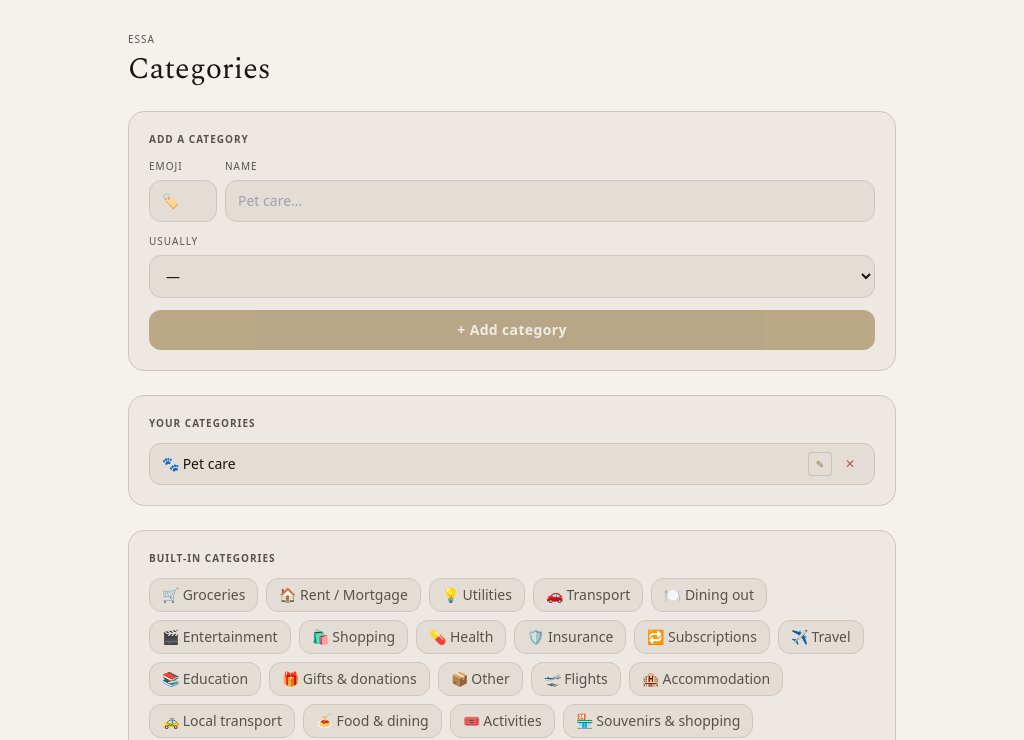
Scenario: adding one named like a custom one is refused too
The image size is (1024, 740).
Step 1. Type "PET CARE" into the field with id "new-cat-name" → (550,201), box [225,180,875,222]
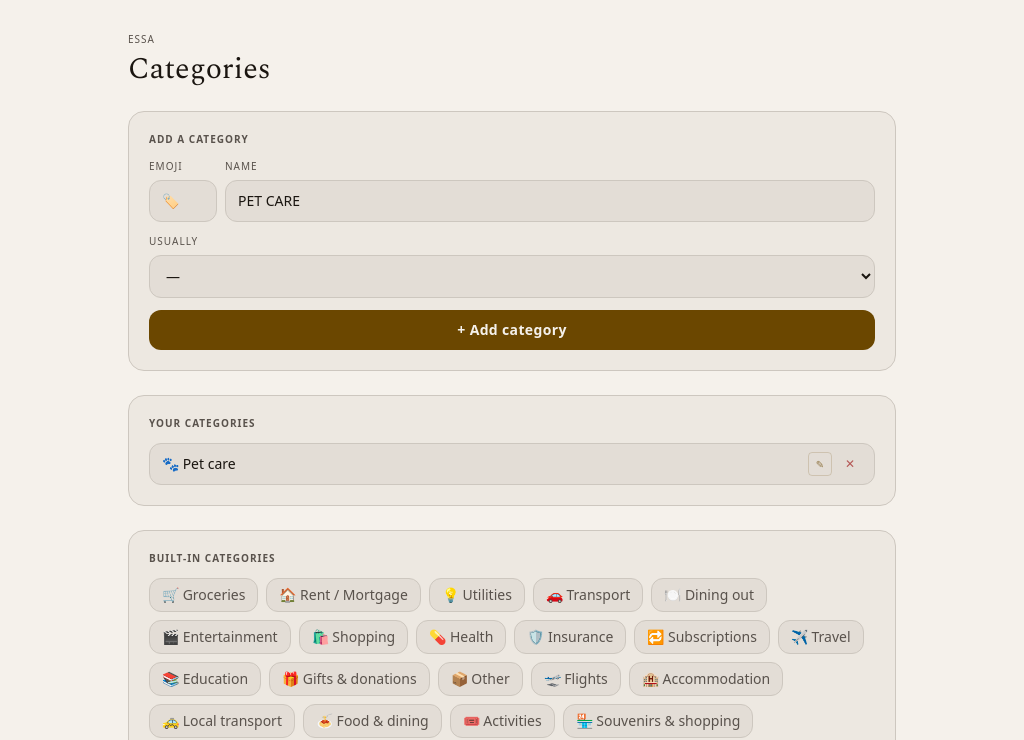
Step 2. Click the button "+ Add category" → (512,330), box [149,310,875,350]
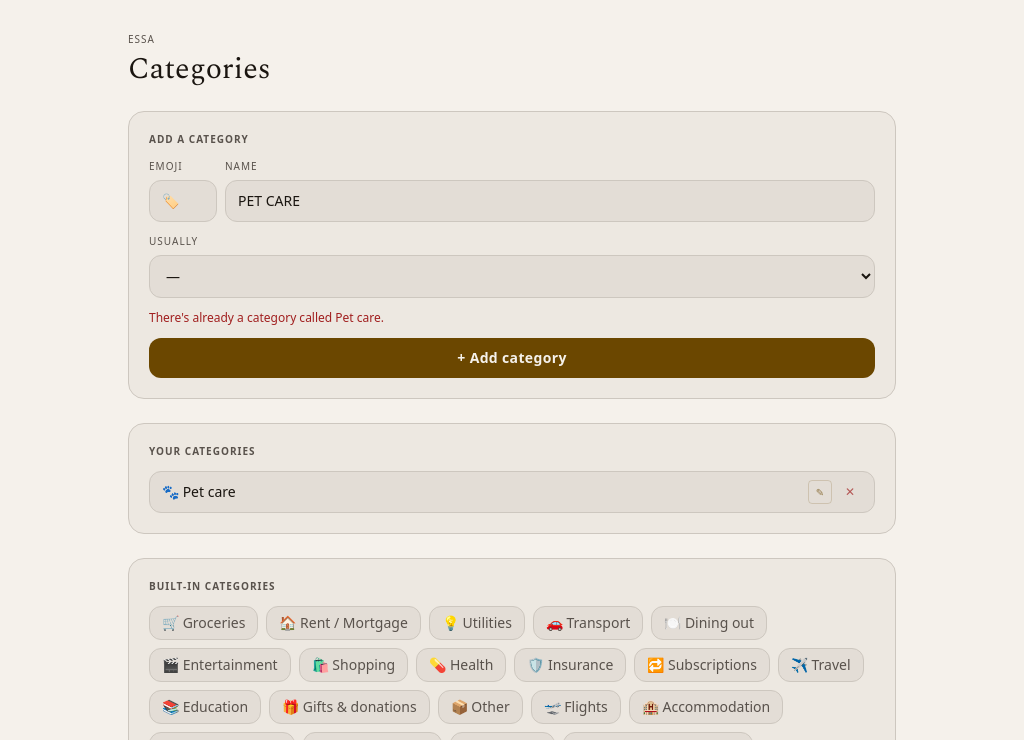
Expected: the message reads "There's already a category called Pet care.", [149,309,384,326]
